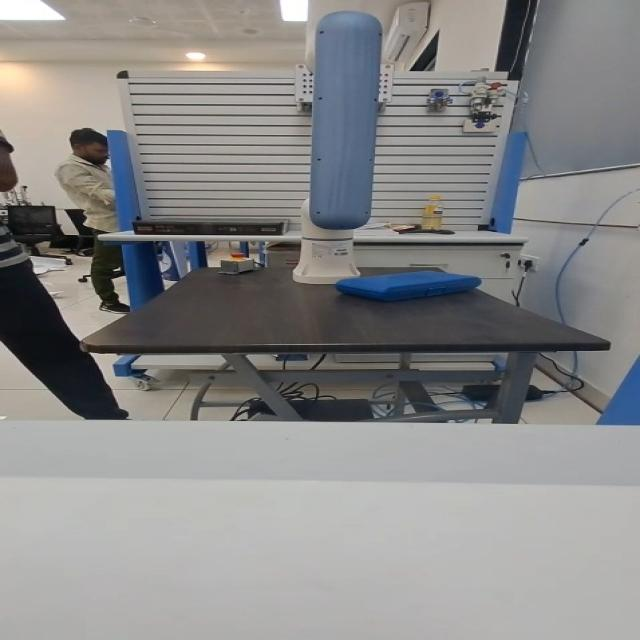top-surface: (348, 272, 467, 287)
